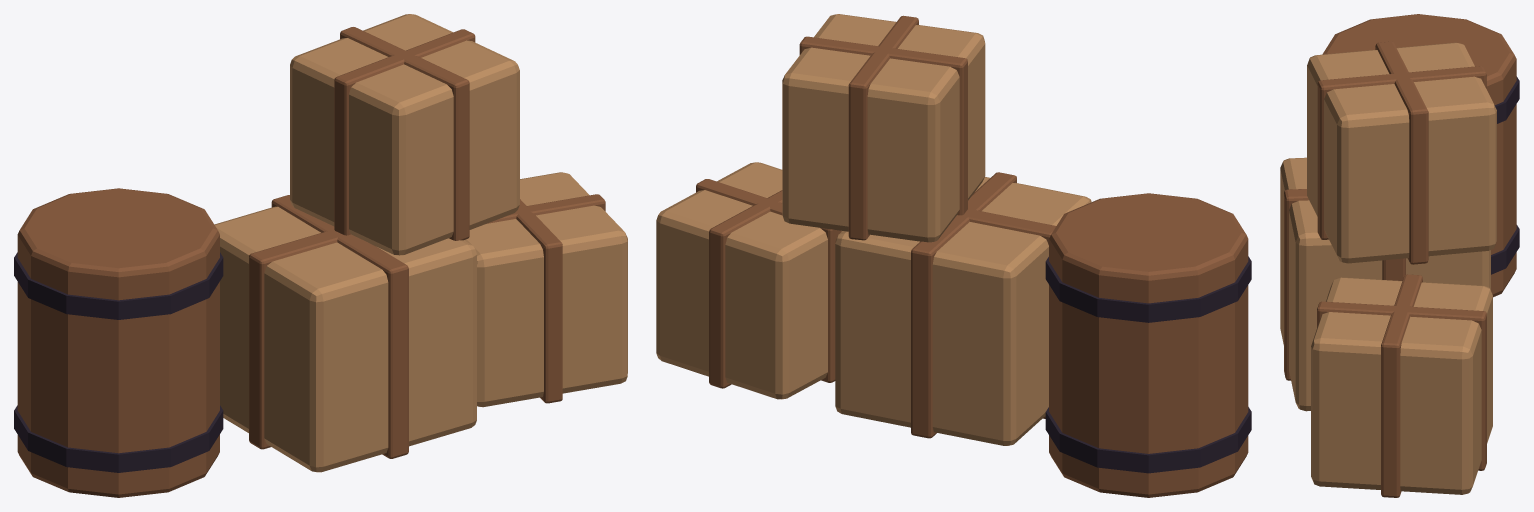
File: crates.glb
The picture shows the model from 3 angles, left to right: view 1: azimuth 30°, elevation 25°; view 2: azimuth 150°, elevation 25°; view 3: azimuth 270°, elevation 25°; orthographic projection. The views are drawn at different scales.
Visible parts, largest first — view 1: crates; view 2: crates; view 3: crates.
Boxes of the visible parts, box(x1,y1,x2,y2) form: crates: box(14, 14, 627, 497); crates: box(656, 14, 1251, 497); crates: box(1280, 14, 1519, 497).
Bounding box in the file's own units: 1.94 × 1.12 × 0.7324.
